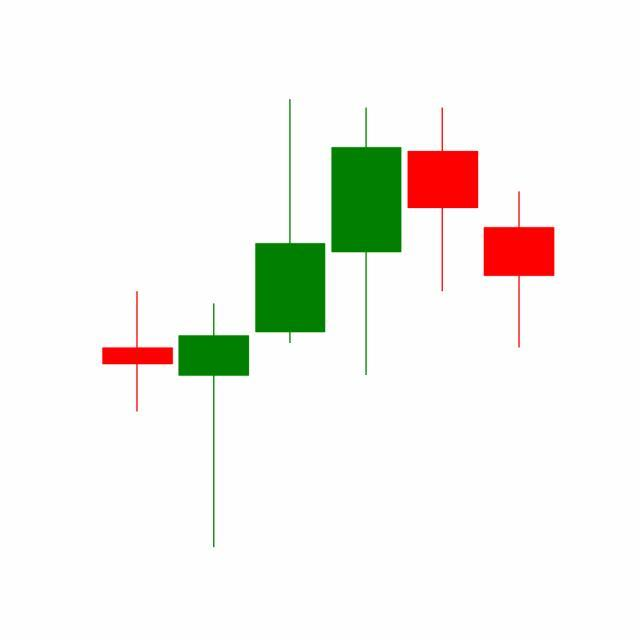Three Inside Up-Down: (326, 104, 555, 379)
